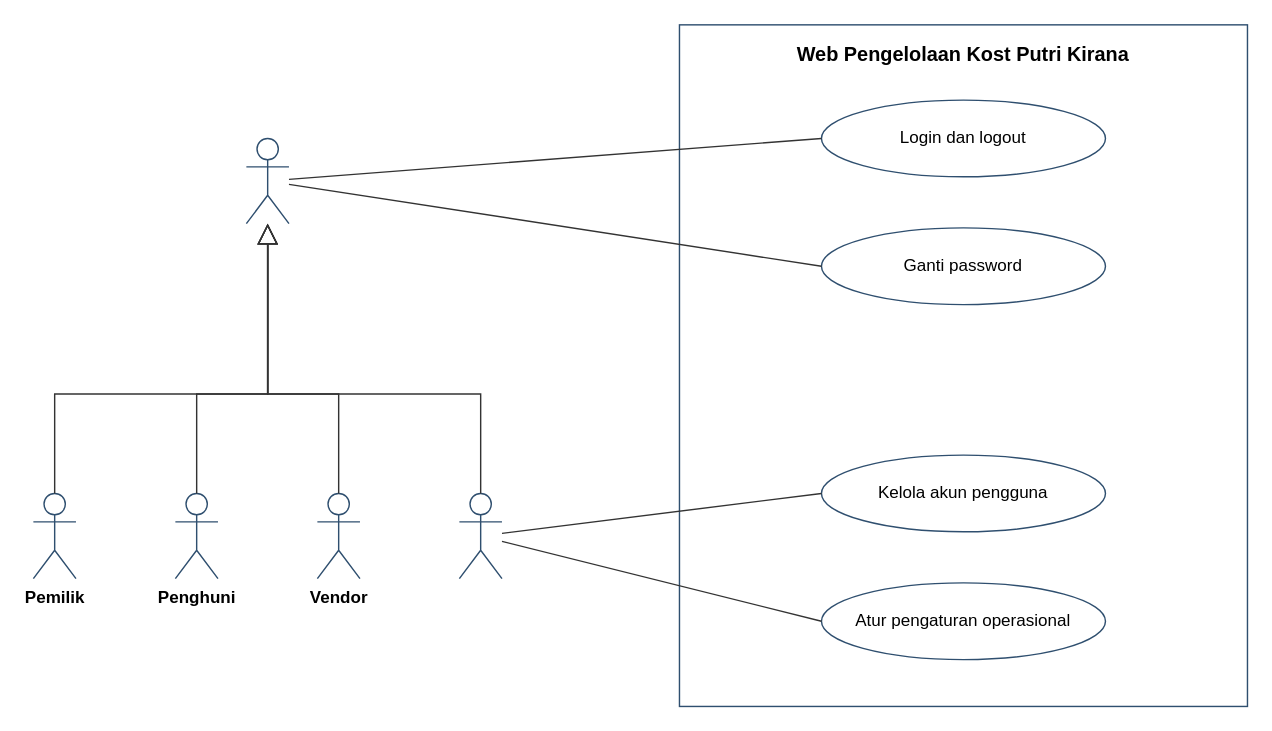
Image size: 1272x731. Some labels were removed from this diagram. The shapes that lost their labels are listed below. From the top down, each one's centre as x and y in pixels, then its label:
At (267,180): "Pengguna".
At (480,535): "Pengelola".
